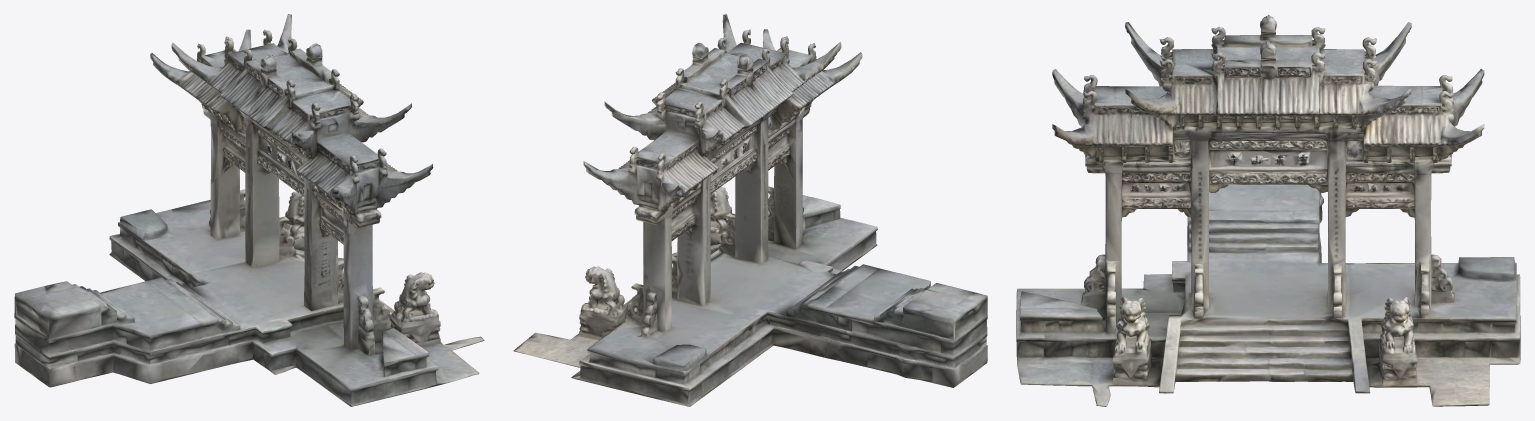
The model's file is preview.517ce2299ead.glb.
The picture shows the model from 3 angles, left to right: view 1: azimuth 30°, elevation 25°; view 2: azimuth 150°, elevation 25°; view 3: azimuth 270°, elevation 25°; orthographic projection. The views are drawn at different scales.
Parts seen in each view (by area): view 1: tripo_node_7eed36b0-e405-46dd-bec9-81dad95d64a0; view 2: tripo_node_7eed36b0-e405-46dd-bec9-81dad95d64a0; view 3: tripo_node_7eed36b0-e405-46dd-bec9-81dad95d64a0.
Part boxes in pixels (x1,y1,x2,y2): tripo_node_7eed36b0-e405-46dd-bec9-81dad95d64a0: (14,14,484,406); tripo_node_7eed36b0-e405-46dd-bec9-81dad95d64a0: (513,14,987,406); tripo_node_7eed36b0-e405-46dd-bec9-81dad95d64a0: (1016,14,1520,406).
Bounding box in the file's own units: 0.98 × 0.6663 × 0.9778.
1 material, 1 textured.
